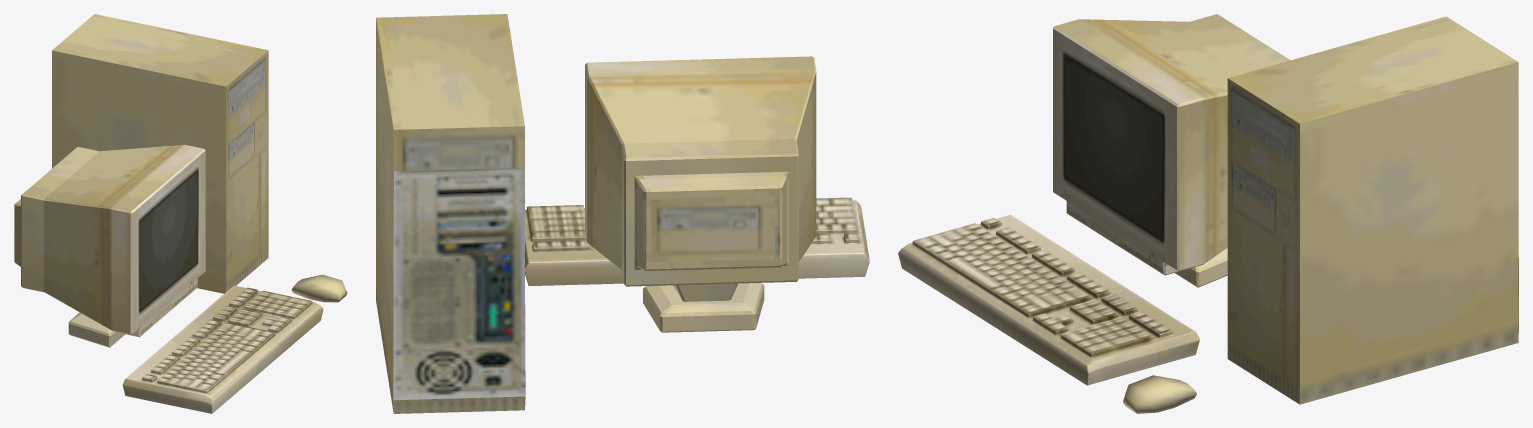
3 renders of one model, left to right at view 1: azimuth 30°, elevation 25°; view 2: azimuth 150°, elevation 25°; view 3: azimuth 270°, elevation 25°, orthographic. The views are drawn at different scales.
Visible parts, largest first — view 1: CPU Plainde, Monitor Plainde, Keyboarde, Mousede; view 2: CPU Plainde, Monitor Plainde, Keyboarde; view 3: CPU Plainde, Monitor Plainde, Keyboarde, Mousede.
Part boxes in pixels (x1,y1,x2,y2): CPU Plainde: (52, 14, 268, 293); Monitor Plainde: (14, 144, 205, 347); Keyboarde: (122, 285, 323, 413); Mousede: (291, 274, 347, 302); CPU Plainde: (376, 14, 525, 413); Monitor Plainde: (585, 56, 816, 332); Keyboarde: (525, 197, 869, 286); CPU Plainde: (1227, 16, 1518, 404); Monitor Plainde: (1053, 14, 1290, 287); Keyboarde: (898, 214, 1199, 385); Mousede: (1123, 375, 1196, 413).
Size of the model in its own units: 4.41 by 2.95 by 5.92.
4 materials, 4 textured.
